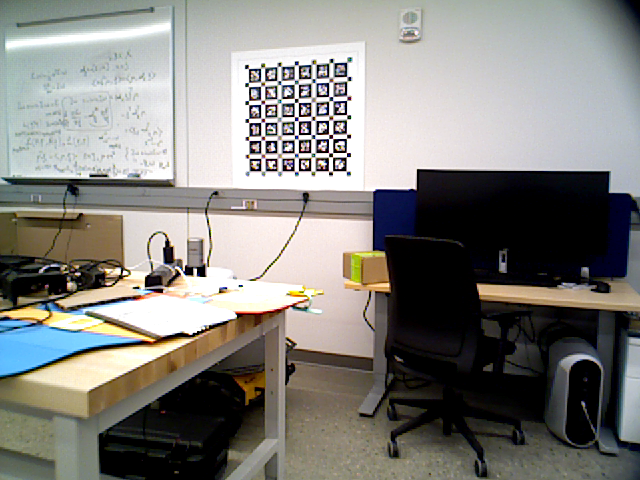painting4: (234, 42, 366, 188)
